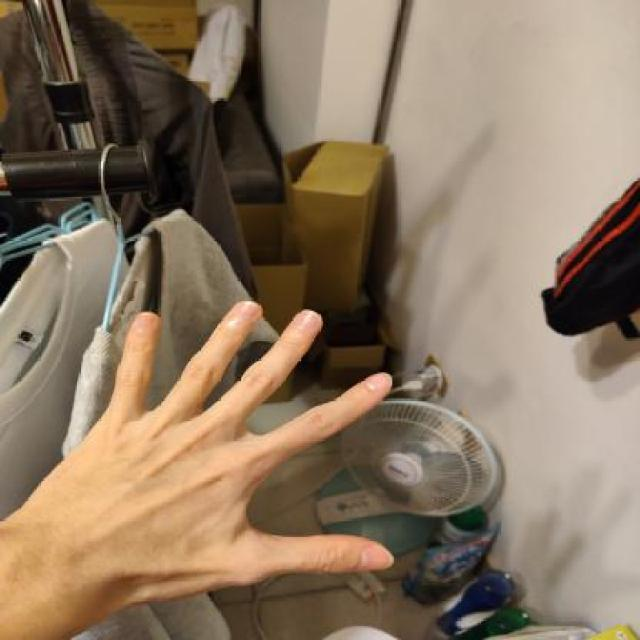bare_hand: (0, 286, 409, 634)
